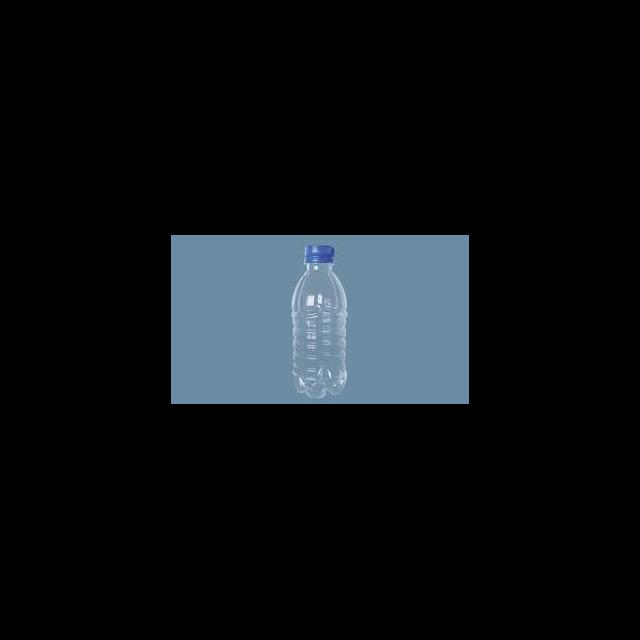plastic: (291, 245, 346, 398), (303, 246, 334, 264)
